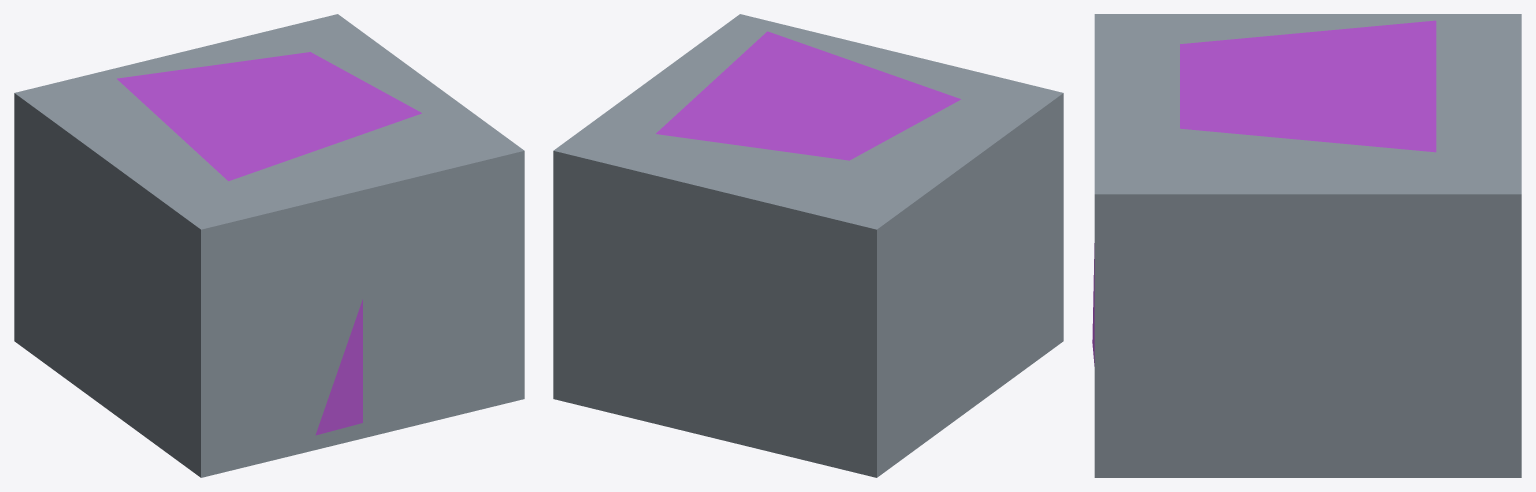
The model's file is CH_TechCenter_LOD1.glb.
3 views of the same model, side by side, from view 1: azimuth 30°, elevation 25°; view 2: azimuth 150°, elevation 25°; view 3: azimuth 270°, elevation 25° (orthographic). The views are drawn at different scales.
Visible parts, largest first — view 1: EntranceGate; view 2: EntranceGate; view 3: EntranceGate.
Part boxes in pixels (bbox=[...]): EntranceGate: bbox=[14, 14, 524, 477]; EntranceGate: bbox=[553, 14, 1063, 477]; EntranceGate: bbox=[1092, 14, 1521, 477].
Bounding box in the file's own units: 600 × 486 × 603.
